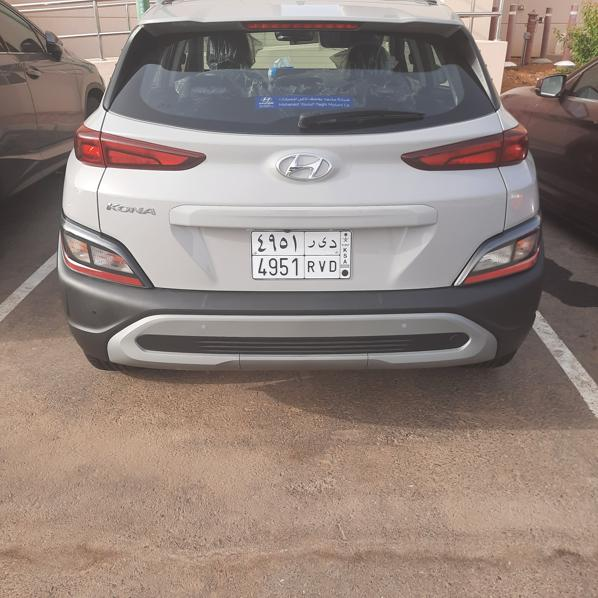numberplate: (252, 231, 350, 280)
